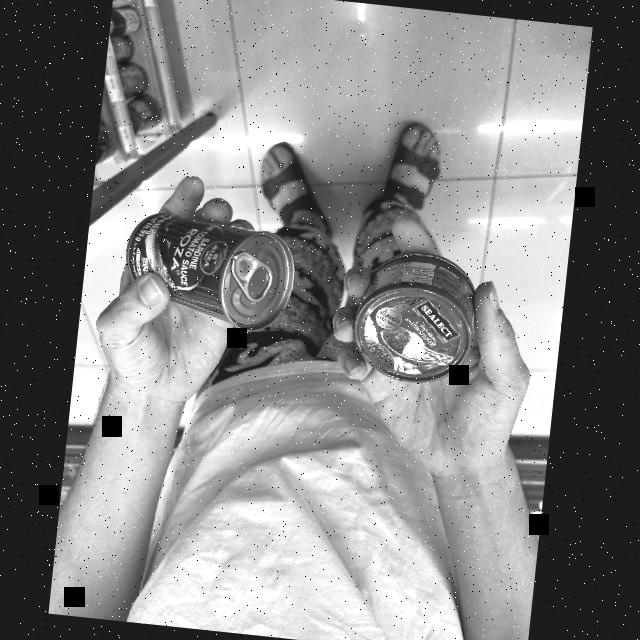can: (111, 205, 306, 339), (342, 242, 491, 401)
